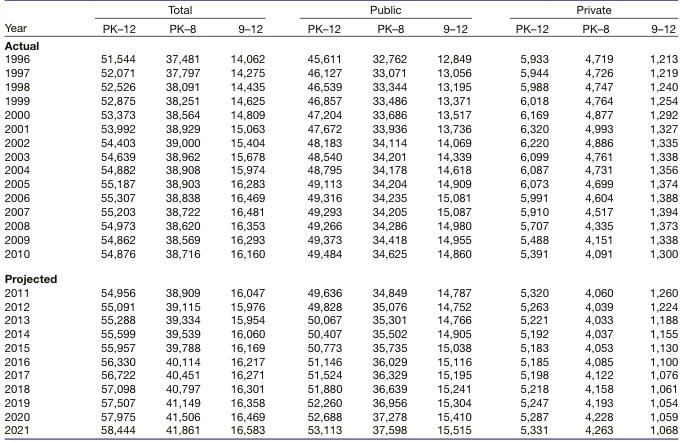table: (3, 3, 677, 435)
table column: (64, 3, 149, 435), (492, 3, 564, 435), (214, 3, 285, 435), (285, 3, 356, 435), (421, 3, 492, 435), (564, 3, 630, 435), (149, 3, 214, 435), (356, 3, 421, 435), (3, 3, 64, 435), (630, 3, 677, 435)
table column header: (3, 3, 677, 37)
table projected row header: (3, 266, 677, 285), (3, 37, 677, 52)
table row: (3, 246, 677, 266), (3, 266, 677, 285), (3, 19, 677, 37), (3, 3, 677, 19), (3, 37, 677, 52), (3, 52, 677, 66), (3, 66, 677, 80), (3, 93, 677, 107), (3, 107, 677, 121), (3, 121, 677, 135), (3, 135, 677, 149), (3, 149, 677, 163), (3, 163, 677, 177), (3, 177, 677, 191), (3, 191, 677, 205), (3, 218, 677, 232), (3, 232, 677, 246), (3, 285, 677, 299), (3, 299, 677, 313), (3, 313, 677, 327), (3, 340, 677, 354), (3, 354, 677, 368), (3, 368, 677, 382), (3, 395, 677, 409), (3, 409, 677, 423), (3, 80, 677, 93), (3, 205, 677, 218), (3, 327, 677, 340), (3, 382, 677, 395), (3, 423, 677, 435)
table spanning cell: (64, 3, 285, 19), (285, 3, 492, 19), (492, 3, 677, 19), (3, 3, 64, 37)
